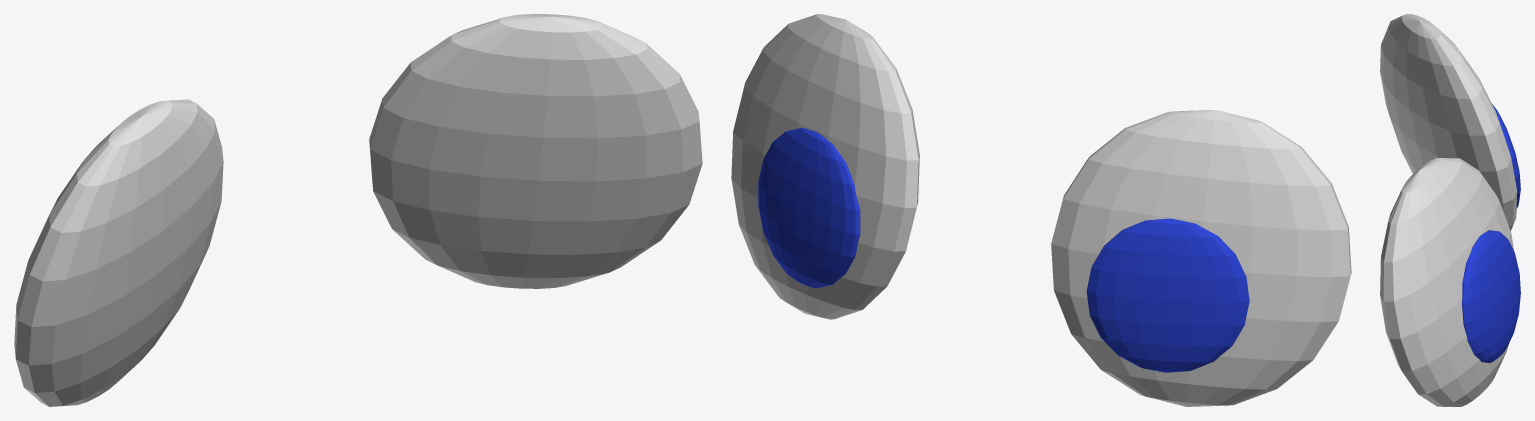
Rendered from Ghost_Eyes_Centered.obj.
3 renders of one model, left to right at view 1: azimuth 30°, elevation 25°; view 2: azimuth 150°, elevation 25°; view 3: azimuth 270°, elevation 25°, orthographic. The views are drawn at different scales.
Parts seen in each view (by area): view 1: Ghost_Eyes.001; view 2: Ghost_Eyes.001, Ghost_Pupils.001; view 3: Ghost_Eyes.001, Ghost_Pupils.001.
Boxes of the visible parts, x1,y1,x2,y2 form: Ghost_Eyes.001: (14, 14, 702, 406); Ghost_Eyes.001: (731, 14, 1351, 406); Ghost_Pupils.001: (758, 127, 1249, 372); Ghost_Eyes.001: (1380, 14, 1517, 406); Ghost_Pupils.001: (1462, 104, 1520, 362).
Size of the model in its own units: 1.49 by 0.6245 by 0.3579.
